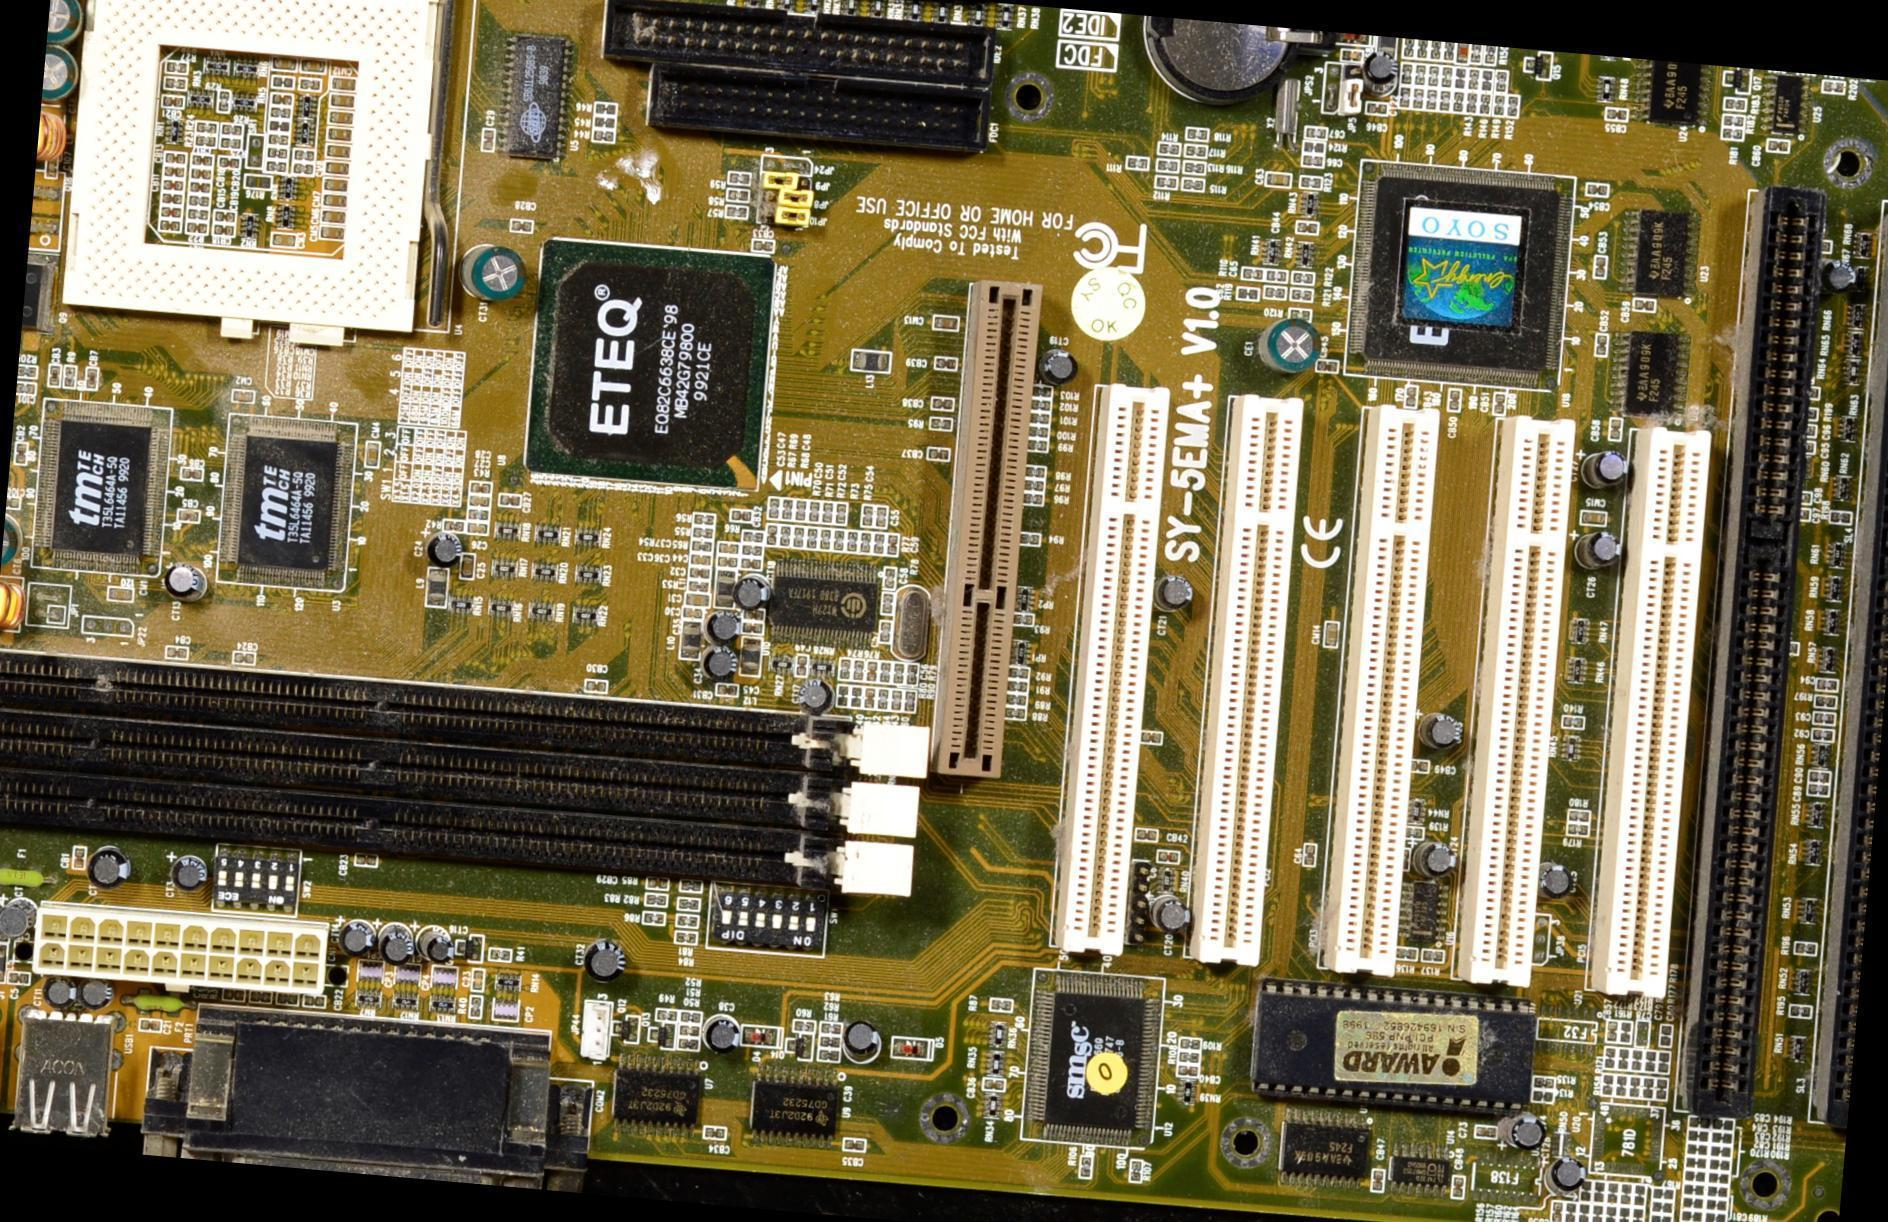Capacitor: (931, 314, 958, 332), (481, 126, 498, 152), (1323, 621, 1339, 645), (460, 553, 475, 579), (16, 379, 38, 396), (136, 1016, 160, 1032), (1397, 83, 1412, 108), (1410, 86, 1426, 110), (1593, 333, 1609, 358), (1158, 847, 1178, 865), (1315, 358, 1338, 374), (646, 877, 671, 891), (1364, 101, 1387, 115), (1607, 417, 1622, 440), (354, 852, 379, 865), (1438, 88, 1452, 113), (1579, 511, 1606, 523), (716, 555, 740, 568), (584, 679, 606, 694), (1304, 124, 1326, 139), (1264, 268, 1287, 283), (751, 238, 773, 253), (510, 217, 533, 232), (934, 356, 956, 371), (931, 395, 953, 410), (880, 592, 894, 614), (163, 645, 186, 659), (1686, 1142, 1709, 1156), (1474, 1124, 1497, 1138), (1685, 1156, 1708, 1170), (842, 1136, 865, 1150), (469, 482, 492, 495), (13, 442, 26, 465), (176, 508, 199, 521), (1265, 172, 1290, 185), (464, 521, 489, 534), (736, 557, 761, 570), (716, 683, 738, 696), (233, 651, 255, 664), (1302, 843, 1316, 865), (1176, 1064, 1199, 1077), (1687, 1128, 1709, 1142), (1425, 89, 1439, 111), (1293, 270, 1315, 284), (688, 554, 716, 566), (1817, 677, 1838, 691), (73, 845, 86, 869), (1593, 256, 1606, 279), (467, 494, 490, 507), (1811, 729, 1834, 742), (1549, 1200, 1563, 1221), (1807, 770, 1831, 781), (1688, 1116, 1711, 1129), (1684, 1183, 1706, 1196), (1605, 107, 1626, 120), (1767, 139, 1789, 152), (1296, 221, 1318, 234), (927, 448, 950, 461), (180, 467, 202, 479), (882, 567, 895, 589), (1813, 712, 1834, 724), (682, 606, 702, 619), (877, 620, 890, 640), (685, 593, 709, 604), (1808, 783, 1829, 795), (703, 1125, 724, 1138), (499, 492, 520, 505), (689, 566, 708, 580), (1411, 759, 1430, 772), (718, 540, 737, 552), (6, 496, 21, 510), (473, 970, 484, 991), (1302, 155, 1323, 167), (876, 505, 887, 526), (886, 534, 897, 555), (1634, 298, 1652, 311)
Connector: (1667, 180, 1831, 1113), (0, 708, 918, 851), (0, 644, 932, 781), (0, 766, 899, 907), (143, 1001, 599, 1192), (1803, 184, 1887, 1126), (1309, 410, 1443, 985), (1583, 417, 1715, 1000), (1180, 396, 1313, 975), (1454, 418, 1582, 987), (1050, 387, 1174, 961), (928, 274, 1047, 781), (599, 0, 999, 92), (646, 62, 985, 156), (28, 896, 332, 987), (15, 1008, 122, 1140)
IC: (522, 238, 781, 494), (1342, 158, 1575, 391), (1249, 976, 1539, 1111), (1020, 966, 1166, 1149), (27, 396, 171, 576), (216, 414, 358, 592), (762, 556, 882, 647), (493, 29, 574, 163), (607, 1050, 704, 1141), (1608, 325, 1693, 424), (747, 1062, 843, 1148), (1620, 208, 1703, 299), (1276, 1109, 1371, 1189), (1632, 59, 1713, 126), (1386, 1142, 1448, 1198), (1398, 878, 1451, 942), (1760, 73, 1812, 135)
Resistor: (1393, 944, 1417, 962), (1422, 947, 1446, 965), (1792, 940, 1816, 956), (1829, 511, 1855, 526), (1157, 140, 1180, 157), (1813, 694, 1837, 709), (677, 895, 698, 912), (676, 912, 698, 929), (1712, 1116, 1734, 1132), (17, 362, 38, 378), (1705, 1197, 1728, 1212), (1451, 90, 1465, 113), (1302, 139, 1325, 154), (1154, 174, 1178, 189), (62, 365, 77, 388), (806, 500, 821, 523), (794, 497, 808, 521), (781, 497, 795, 522), (729, 508, 750, 524), (1560, 714, 1585, 728), (642, 909, 665, 925), (489, 946, 511, 961), (1440, 66, 1454, 88), (1400, 63, 1414, 85), (1684, 1169, 1706, 1183), (1706, 1184, 1728, 1198), (1504, 94, 1519, 116), (1263, 284, 1285, 298), (765, 496, 780, 518), (1566, 808, 1592, 820), (591, 128, 616, 141), (741, 530, 766, 542), (1566, 822, 1590, 835), (1822, 80, 1845, 94), (989, 998, 1013, 1012), (1709, 1143, 1732, 1158), (1723, 98, 1746, 111), (1620, 1182, 1633, 1205), (1077, 1155, 1091, 1178), (1182, 160, 1205, 174), (592, 116, 615, 129), (858, 531, 872, 554), (1484, 45, 1498, 66), (1428, 40, 1443, 60), (1706, 1184, 1727, 1198), (1022, 478, 1043, 492), (820, 501, 835, 521), (676, 1010, 701, 1023), (1024, 439, 1048, 451), (831, 529, 844, 553), (1414, 39, 1429, 60), (646, 893, 668, 907), (1789, 1002, 1811, 1016), (817, 1049, 840, 1063), (1710, 1130, 1733, 1144), (1467, 68, 1480, 90), (1579, 1179, 1592, 1202), (1681, 1196, 1704, 1210), (1127, 1159, 1141, 1181), (1126, 155, 1148, 169), (1299, 175, 1321, 189), (1291, 288, 1313, 301), (1288, 307, 1310, 321), (1026, 424, 1049, 438), (1021, 492, 1043, 506), (832, 502, 846, 524), (740, 544, 763, 557), (657, 1008, 676, 1022), (1589, 1202, 1605, 1221), (1530, 1090, 1553, 1102), (469, 994, 482, 1017), (1494, 69, 1507, 92), (1705, 1199, 1728, 1211), (1493, 93, 1506, 117), (728, 170, 751, 183), (1241, 267, 1264, 280), (690, 539, 713, 552), (820, 1021, 841, 1035), (1426, 64, 1440, 85), (1481, 69, 1494, 90), (1606, 1181, 1619, 1202), (1187, 127, 1208, 140), (1183, 178, 1204, 191), (930, 416, 951, 429), (693, 512, 714, 525), (675, 931, 697, 944), (1177, 1050, 1199, 1063), (793, 1018, 815, 1031), (1708, 1158, 1730, 1170), (1707, 1171, 1729, 1184), (1651, 1200, 1673, 1213), (594, 103, 616, 115), (724, 206, 748, 218), (1030, 384, 1051, 397), (1027, 412, 1049, 424), (691, 525, 713, 538), (1442, 42, 1457, 61), (1592, 1182, 1606, 1202), (1565, 1202, 1578, 1221), (1025, 464, 1044, 477), (1178, 1037, 1201, 1049), (1679, 1210, 1702, 1221), (1722, 115, 1745, 126), (1469, 44, 1482, 64), (1413, 63, 1426, 84), (1465, 92, 1478, 113), (726, 189, 747, 201), (872, 532, 885, 553), (443, 519, 464, 531), (686, 580, 707, 592), (1603, 1204, 1618, 1221), (1402, 38, 1416, 57), (1576, 1203, 1590, 1221), (679, 1024, 701, 1035), (678, 1037, 700, 1048), (1651, 1188, 1673, 1199), (1029, 399, 1052, 410), (847, 530, 858, 552), (1703, 1211, 1728, 1221), (1721, 127, 1741, 139), (1018, 532, 1038, 545), (1531, 1077, 1552, 1089), (1633, 1186, 1645, 1207), (1617, 1204, 1631, 1221), (1184, 144, 1204, 156), (1156, 159, 1177, 171), (861, 505, 873, 525), (792, 526, 803, 547), (468, 508, 489, 519), (677, 881, 701, 891), (1704, 1211, 1727, 1221), (805, 526, 815, 548), (779, 525, 789, 547), (821, 1035, 840, 1046), (1479, 94, 1490, 112), (820, 529, 830, 547), (1632, 1207, 1645, 1221), (1649, 1214, 1672, 1221)
Transistor: (22, 252, 62, 329), (28, 171, 65, 252), (646, 1020, 674, 1051), (1722, 66, 1755, 94), (1524, 49, 1553, 78), (455, 932, 481, 964), (612, 1011, 638, 1043), (785, 1031, 812, 1059)
